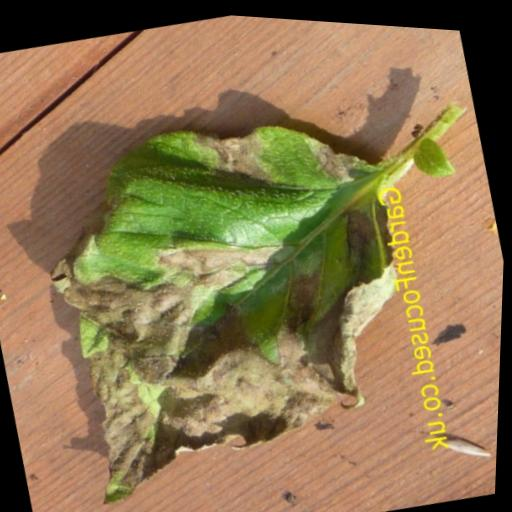Early Blight: (12, 64, 462, 512)
